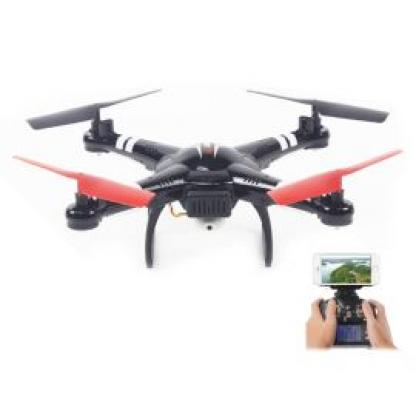drone: (17, 89, 416, 242)
